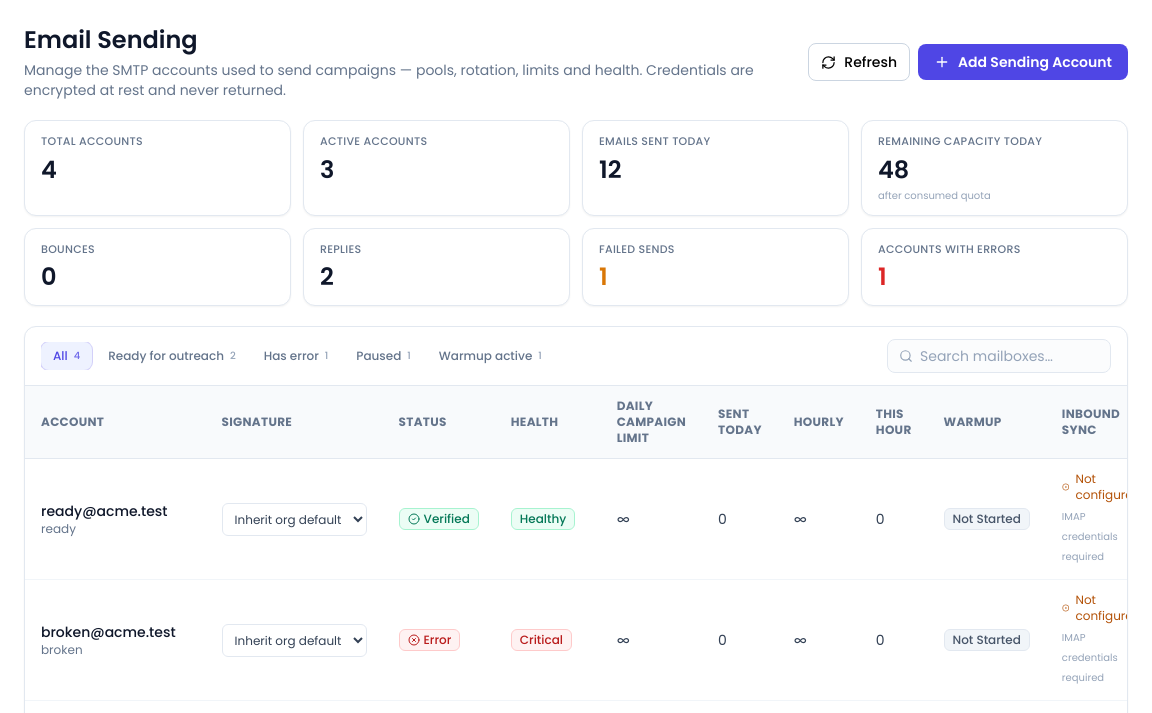
Test: EmailSendingSettingsPage — filter chips + first-run empty state › shows a search chip and Clear all resets tab + search together
Expected: the text "ready@acme.test" is shown, 41,500 -> 168,520
Click the tab "Paused 1". click: (384, 356)
box: 344,342 -> 423,370
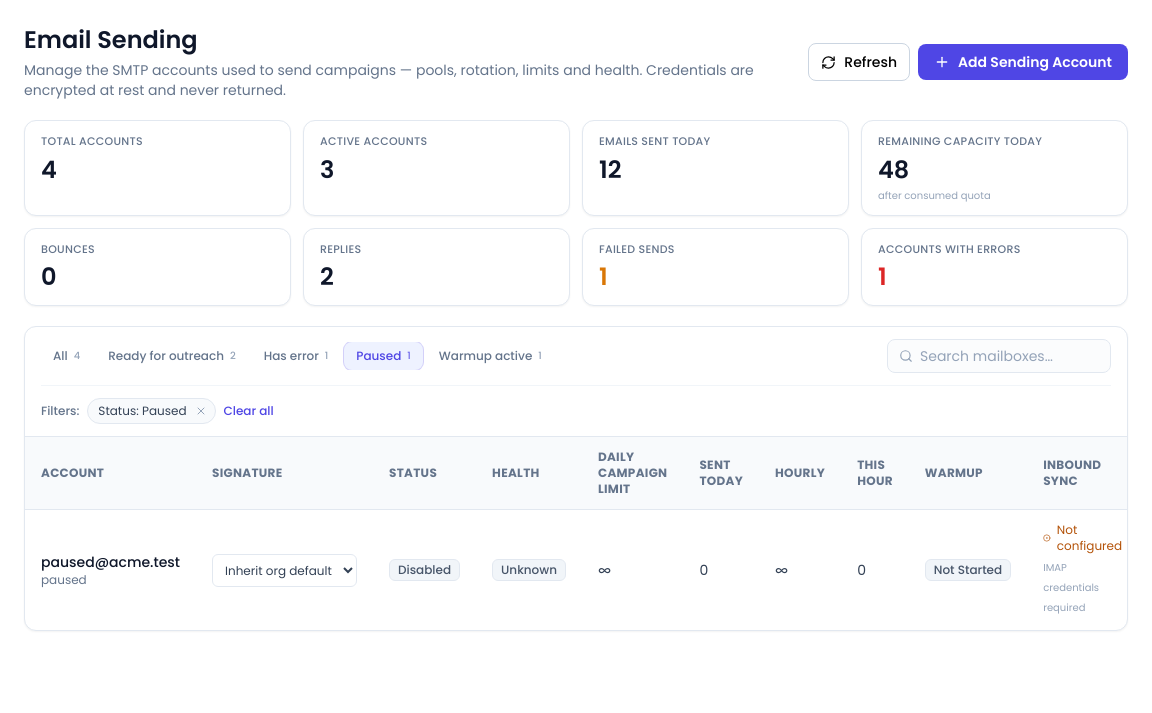
Type "quantam" into the search field named "Search sending accounts". click: (999, 356)
box: 887,339 -> 1111,373
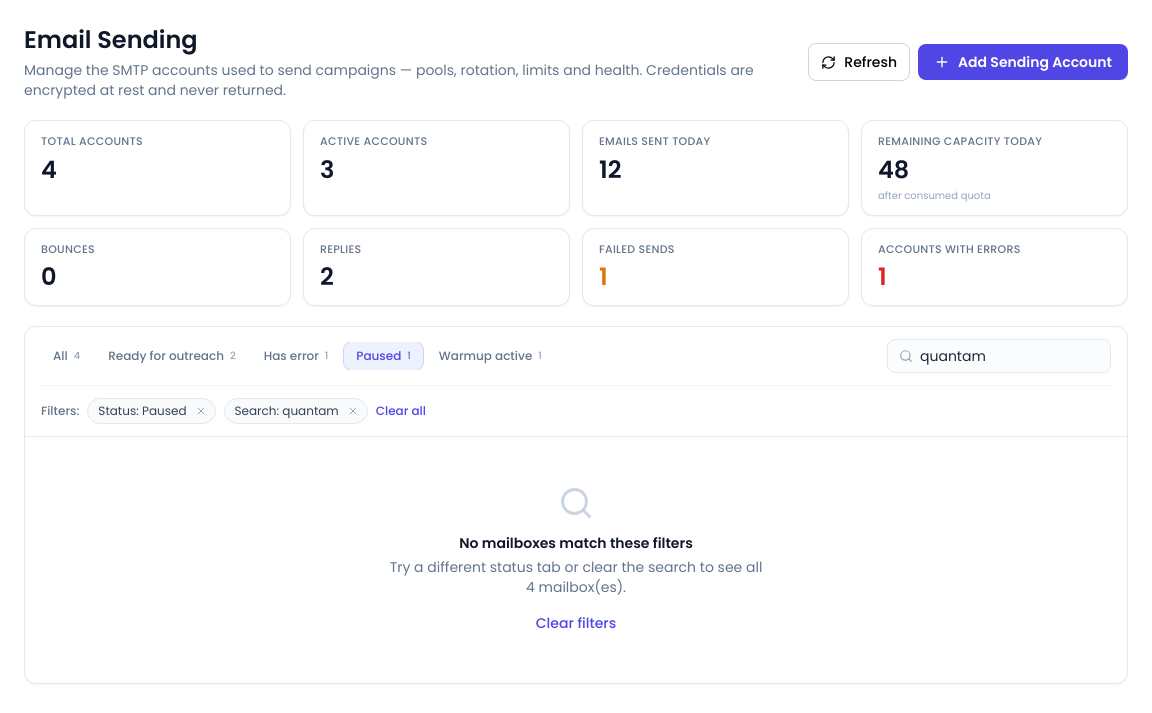
Now the element with test id "account-filter-chips" shows "Status: Paused", box 98,402 -> 186,419
Now the element with test id "account-filter-chips" shows "Search: quantam", box 234,402 -> 339,419
Click the button "Clear all". click: (401, 411)
box: 376,403 -> 426,419
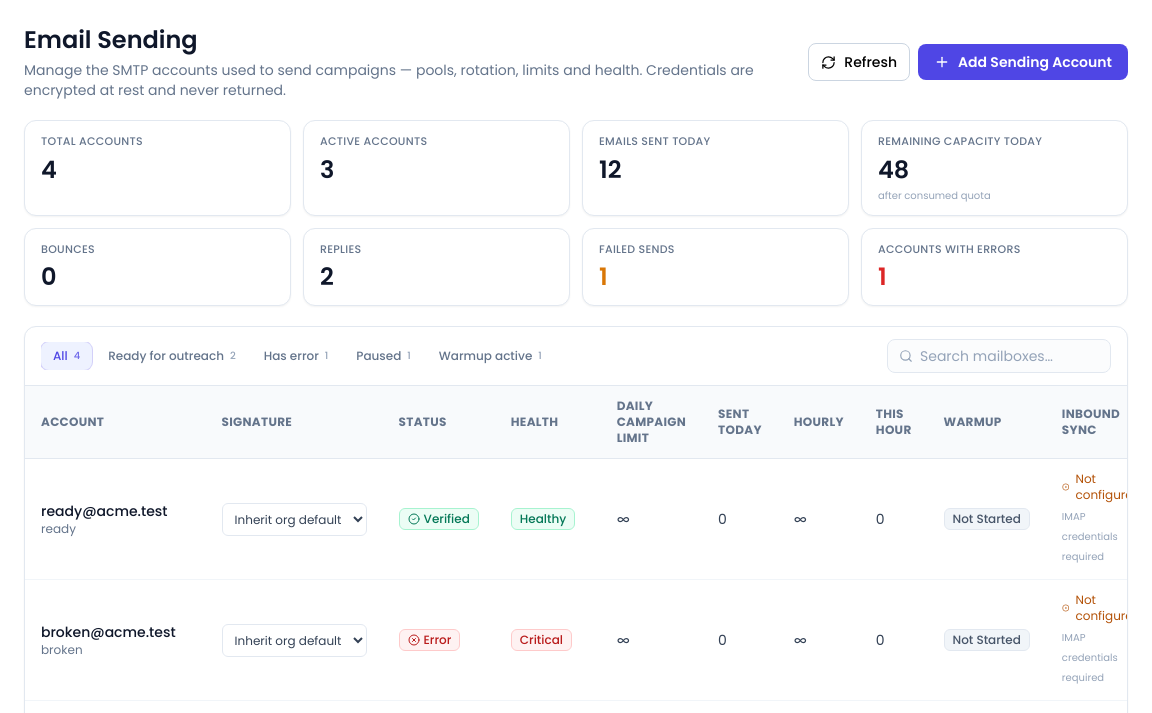
Now the search field named "Search sending accounts" is empty, box 887,339 -> 1111,373
Now the element with test id "account-filter-chips" is gone
Now the text "ready@acme.test" is shown, box 41,500 -> 168,520
